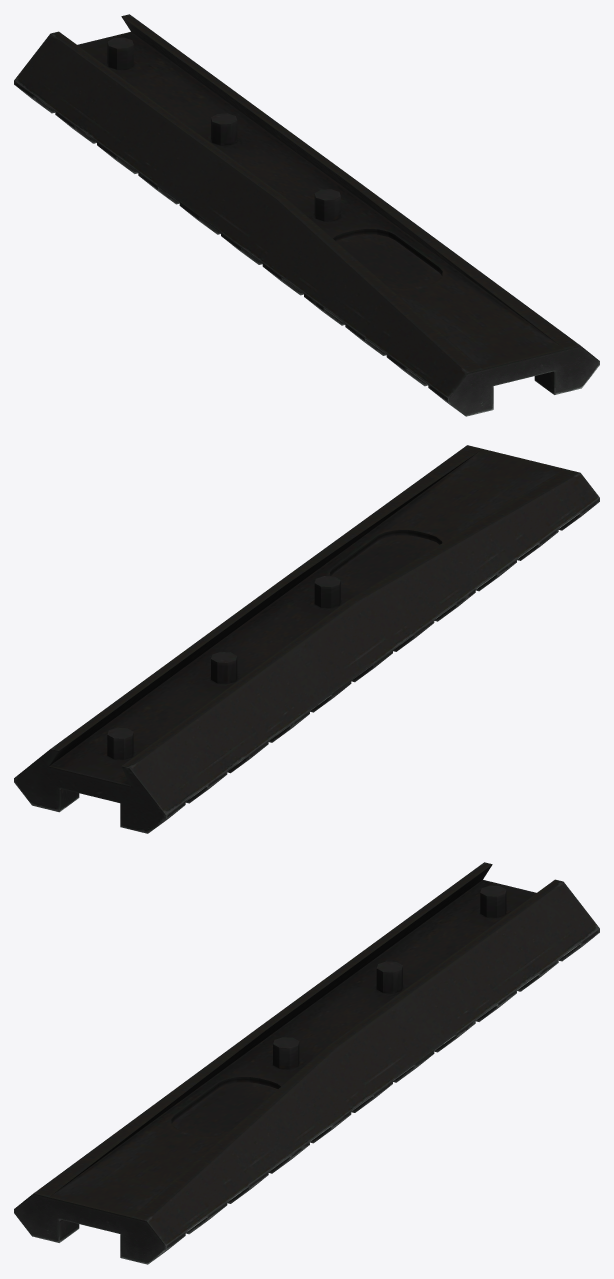
3 renders of one model, top to bottom at view 1: azimuth 30°, elevation 25°; view 2: azimuth 150°, elevation 25°; view 3: azimuth 330°, elevation 25°, orthographic.
Parts seen in each view (by area): view 1: TW_61f804acfcba9556ea304cb8_PZ_Import; view 2: TW_61f804acfcba9556ea304cb8_PZ_Import; view 3: TW_61f804acfcba9556ea304cb8_PZ_Import.
Boxes of the visible parts, <box> form: TW_61f804acfcba9556ea304cb8_PZ_Import: <box>14,14,599,416</box>; TW_61f804acfcba9556ea304cb8_PZ_Import: <box>14,445,599,833</box>; TW_61f804acfcba9556ea304cb8_PZ_Import: <box>14,862,599,1264</box>.
Size of the model in its own units: 0.0123 by 0.0606 by 0.00494.
Materials: 1 (1 with a texture image).
